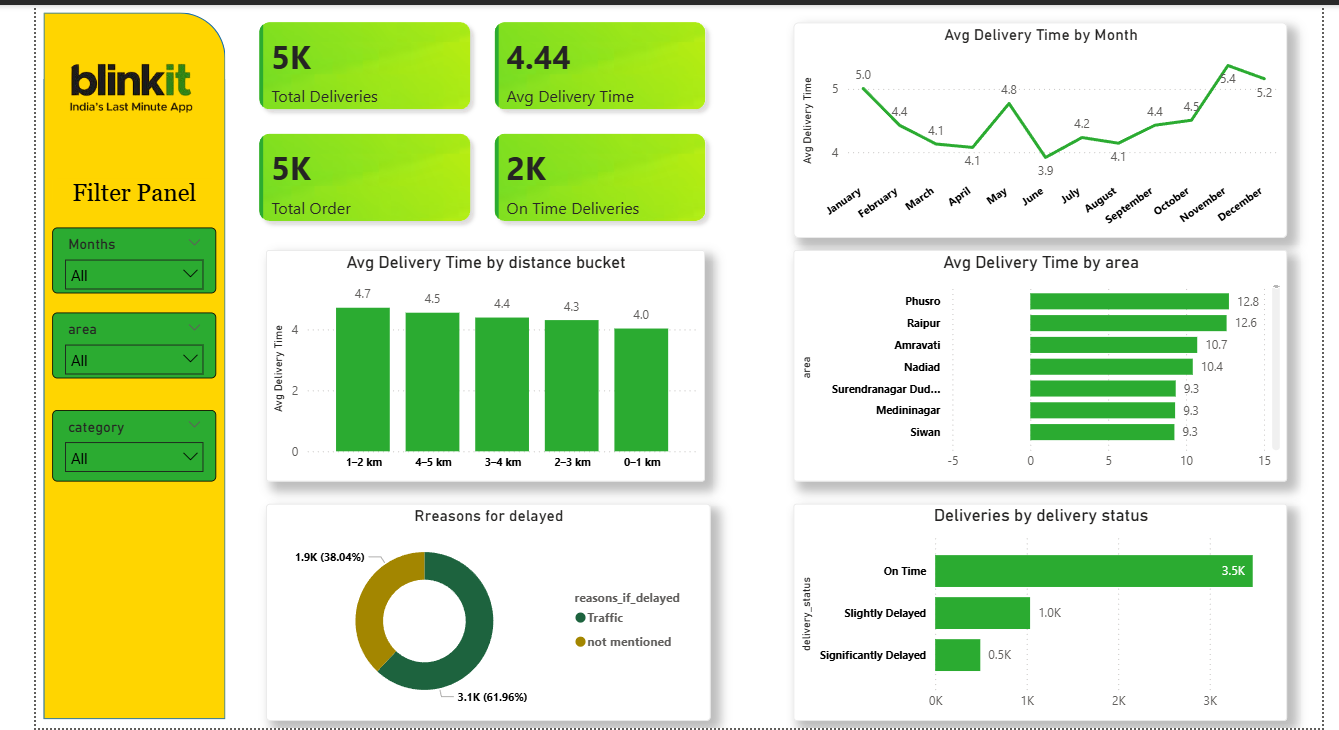

What the dashboard file says about the page in this screenshot:
{"tool":"powerbi","page":{"name":"Page 2","canvas":[1280,720],"ordinal":1},"visuals":[{"type":"shape","box":[7.8,7.8,181.1,703.3],"z":0},{"type":"image","box":[0,0,188.9,165.6],"z":1000},{"type":"cardVisual","fields":{"Data":["blinkit_delivery_performance.Total Deliveries","blinkit_delivery_performance.Avg Delivery Time","blinkit_orders.Total Order","blinkit_delivery_performance.On Time Deliveries"]},"box":[205,0,479.2,232.4],"z":2000},{"type":"barChart","title":" Deliveries by delivery status","fields":{"Category":["blinkit_delivery_performance.delivery_status"],"Y":["blinkit_delivery_performance.Total Deliveries"]},"box":[753.4,495.9,491.1,215.8],"z":3000},{"type":"donutChart","title":"Rreasons for delayed","fields":{"Category":["blinkit_delivery_performance.reasons_if_delayed"],"Y":["CountNonNull(blinkit_delivery_performance.order_id)"]},"box":[228.9,495.9,442.2,215.8],"z":4000},{"type":"lineChart","fields":{"Category":["blinkit_delivery_performance.actual_time.Variation.Date Hierarchy.Month"],"Y":["blinkit_delivery_performance.Avg Delivery Time"]},"box":[753.4,17.9,491.1,214.6],"z":5000},{"type":"barChart","fields":{"Category":["blinkit_customers.area"],"Y":["blinkit_delivery_performance.Avg Delivery Time"]},"box":[753.4,244.4,491.1,230.1],"z":6000},{"type":"slicer","fields":{"Values":["blinkit_customers.Months"]},"box":[16.7,221.7,163.3,65.6],"z":7000},{"type":"textbox","title":"Filter Panel","box":[16.7,173.3,163.3,24.4],"z":8000},{"type":"slicer","fields":{"Values":["blinkit_customers.area"]},"box":[16.7,306.4,163.3,65.6],"z":9000},{"type":"slicer","fields":{"Values":["blinkit_products.category"]},"box":[16.7,402.9,163.3,71.5],"z":10000},{"type":"clusteredColumnChart","title":"Avg Delivery Time by distance bucket","fields":{"Category":["blinkit_delivery_performance.distance_bucket"],"Y":["blinkit_delivery_performance.Avg Delivery Time"]},"box":[228.9,243.8,436.6,230.1],"z":11000}]}

Visuals, with their boxes on the page's 1280x720 design canvas (x1, y1, x2, y2). These are canvas units, not pixel positions in the 1339x730 screenshot, which may show the page scaled, cropped or inside an application window:
shape: 8,8,189,711
image: 0,0,189,166
cardVisual - blinkit_delivery_performance.Total Deliveries x blinkit_delivery_performance.Avg Delivery Time: 205,0,684,232
" Deliveries by delivery status" barChart: 753,496,1244,712
"Rreasons for delayed" donutChart: 229,496,671,712
lineChart - blinkit_delivery_performance.actual_time.Variation.Date Hierarchy.Month x blinkit_delivery_performance.Avg Delivery Time: 753,18,1244,232
barChart - blinkit_customers.area x blinkit_delivery_performance.Avg Delivery Time: 753,244,1244,474
slicer - blinkit_customers.Months: 17,222,180,287
"Filter Panel" textbox: 17,173,180,198
slicer - blinkit_customers.area: 17,306,180,372
slicer - blinkit_products.category: 17,403,180,474
"Avg Delivery Time by distance bucket" clusteredColumnChart: 229,244,666,474
